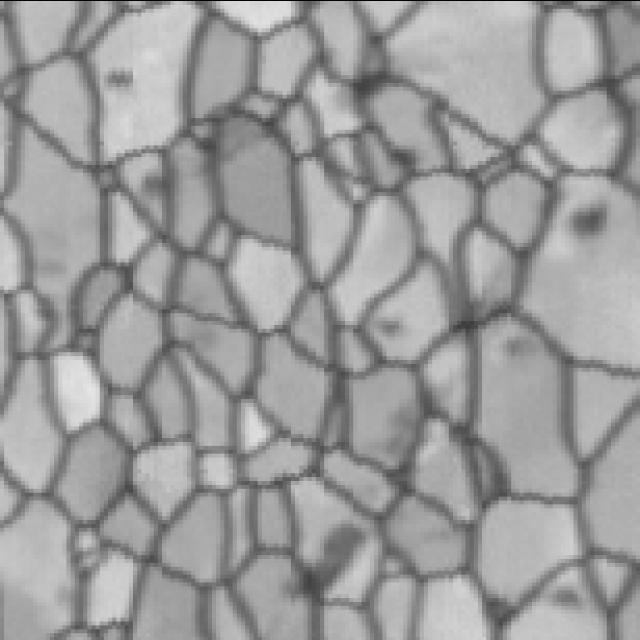good_void: (284, 514, 376, 599), (359, 387, 422, 462), (544, 579, 591, 635), (566, 196, 614, 249), (479, 588, 520, 634), (383, 136, 420, 181), (134, 164, 175, 203), (487, 327, 529, 365), (370, 314, 405, 349), (103, 68, 146, 93)
